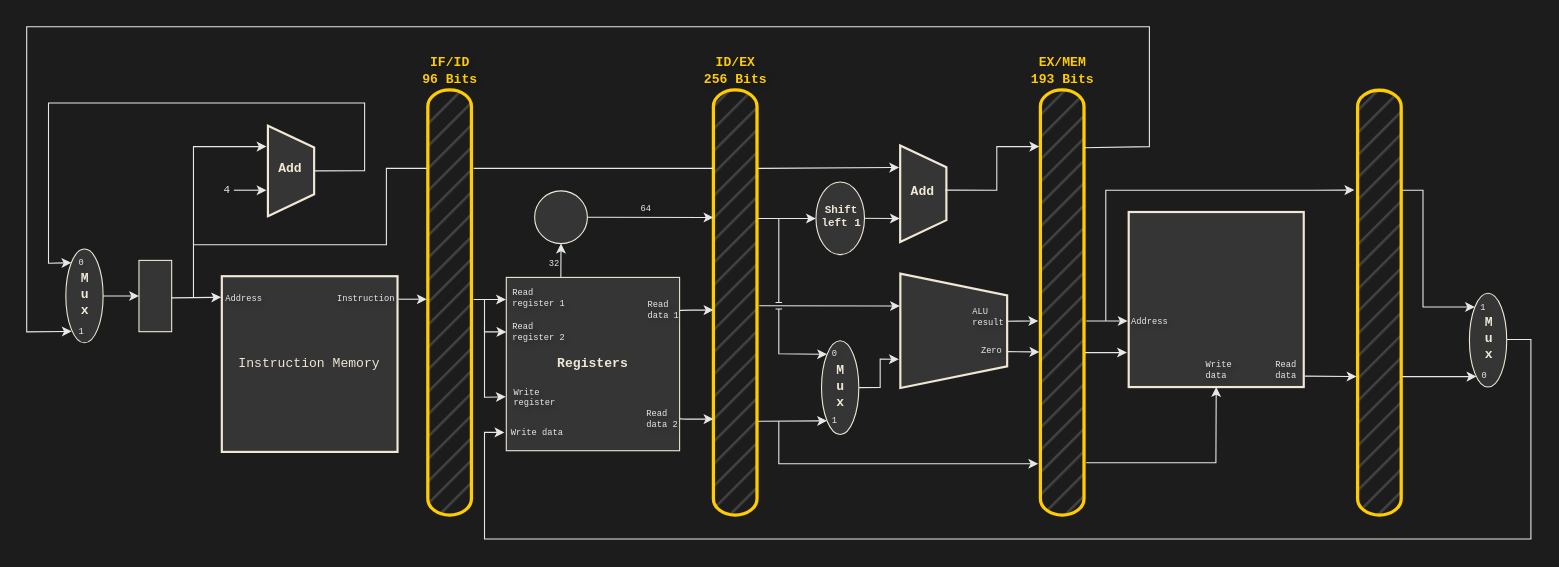
Image size: 1559x567. Some labels were removed from this diagram. The shapes that lost their labels are listed below. From the top down, each one's centre as x and y in pixels, then its label:
the point at 560,217: ImmGen
the point at 155,295: PC
the point at 1215,299: Data Memory
the point at 1378,302: MEM/WB 128 Bits
the point at 953,330: ALU
